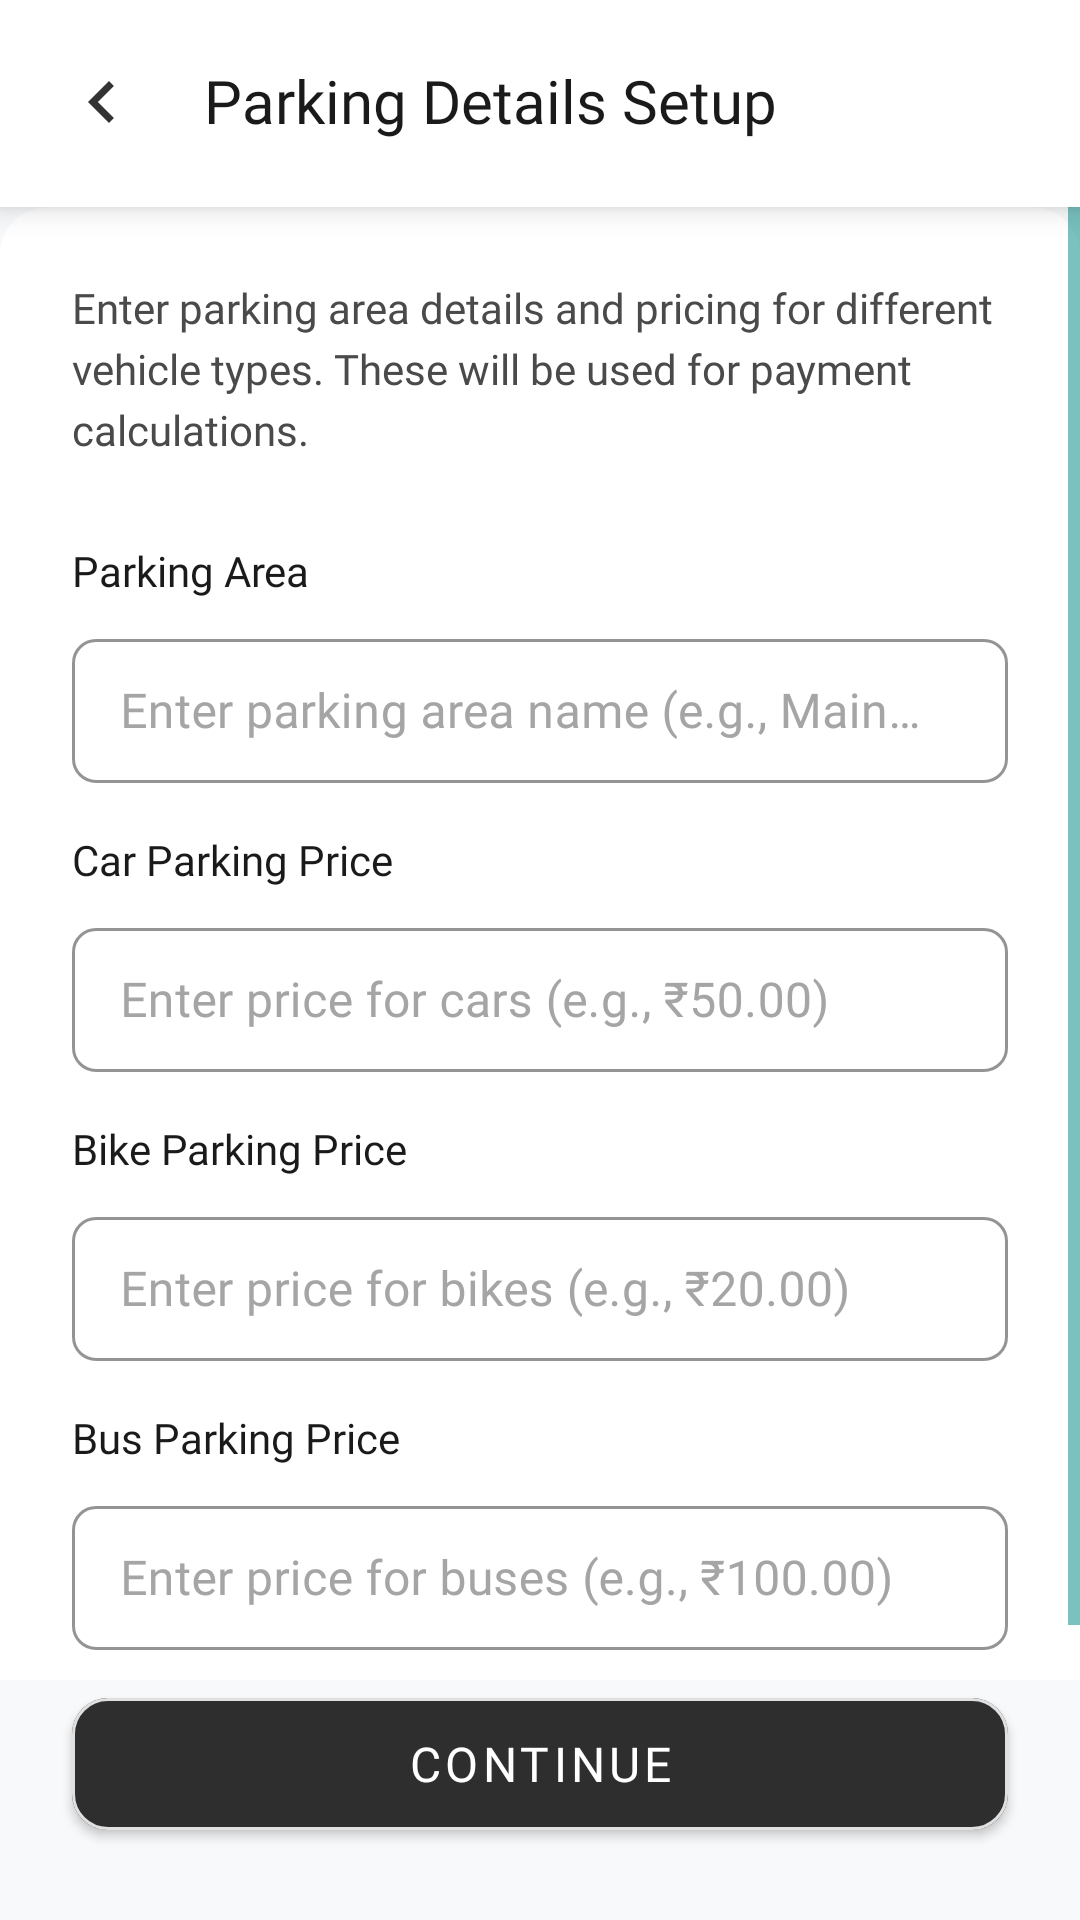

Screen size 1080 × 1920. Icon name, then its box in pixels as [x1,y1,x2,y2]:
Back: [88,81,114,123]
